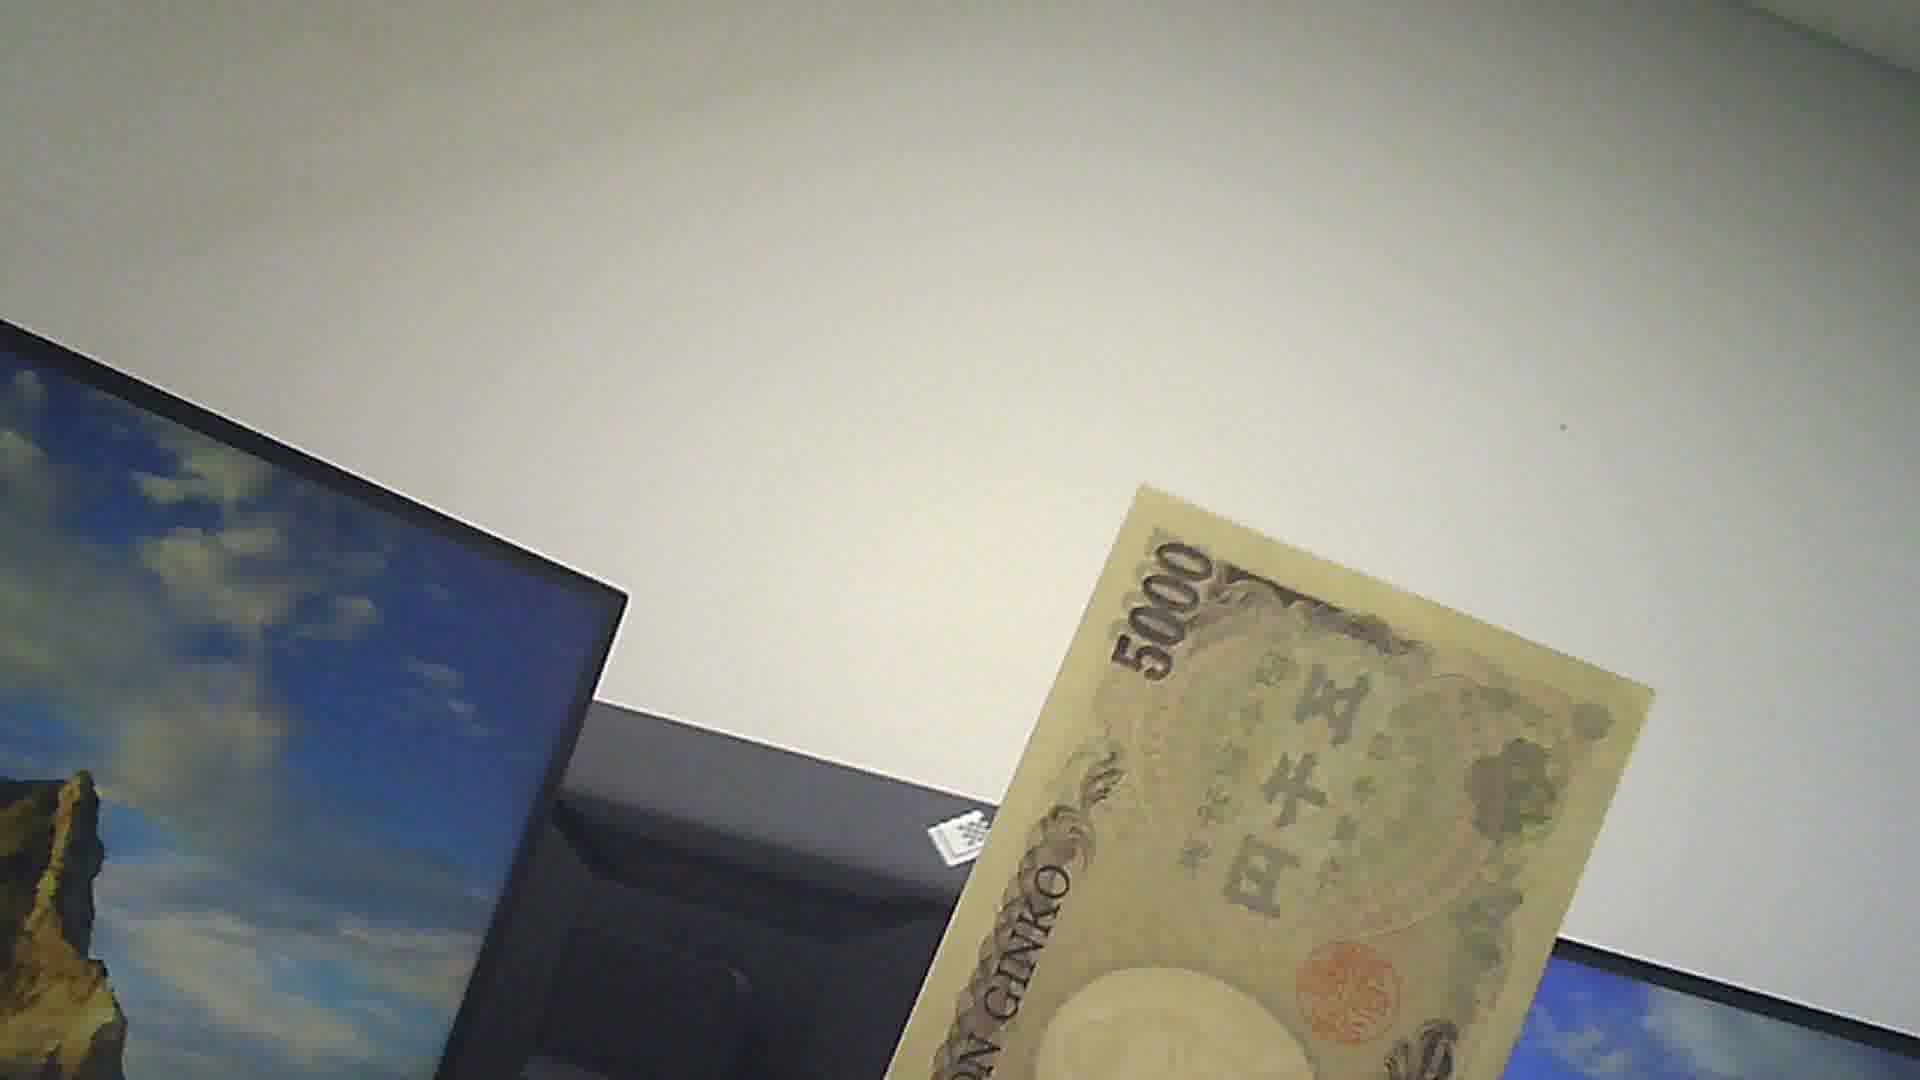5,000 Yen: (926, 469, 1646, 1079)
